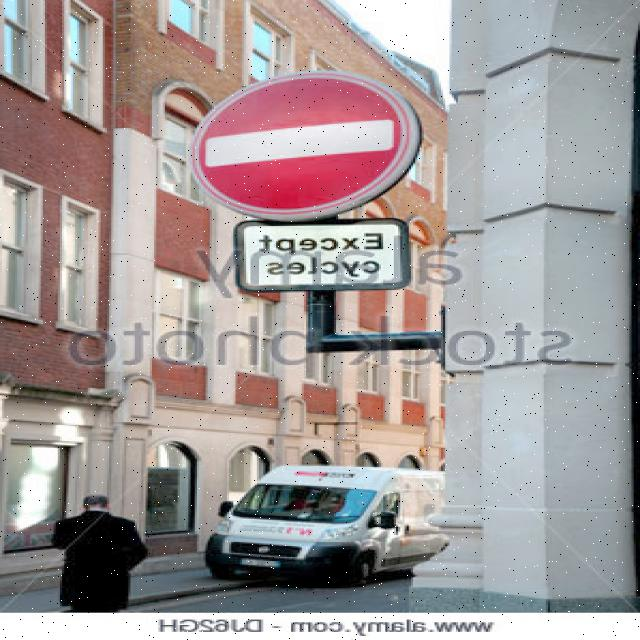no entry: (190, 72, 424, 221)
